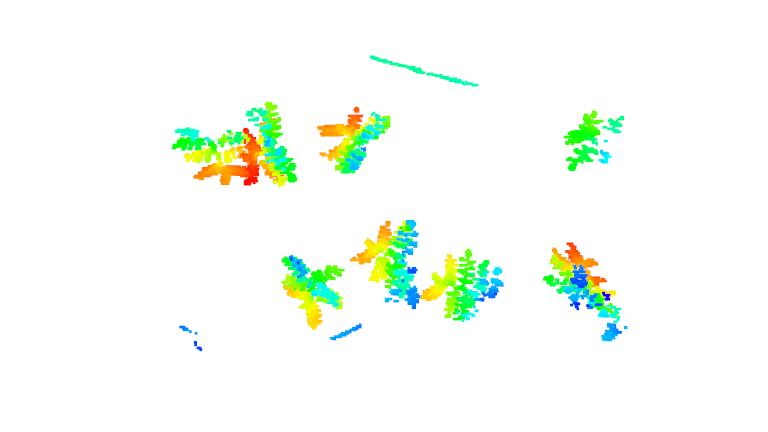chickpea: (350, 219, 424, 309), (420, 248, 506, 323), (542, 242, 620, 324), (315, 103, 392, 178), (277, 253, 346, 333), (242, 100, 298, 193), (171, 122, 249, 187), (562, 108, 627, 172)
